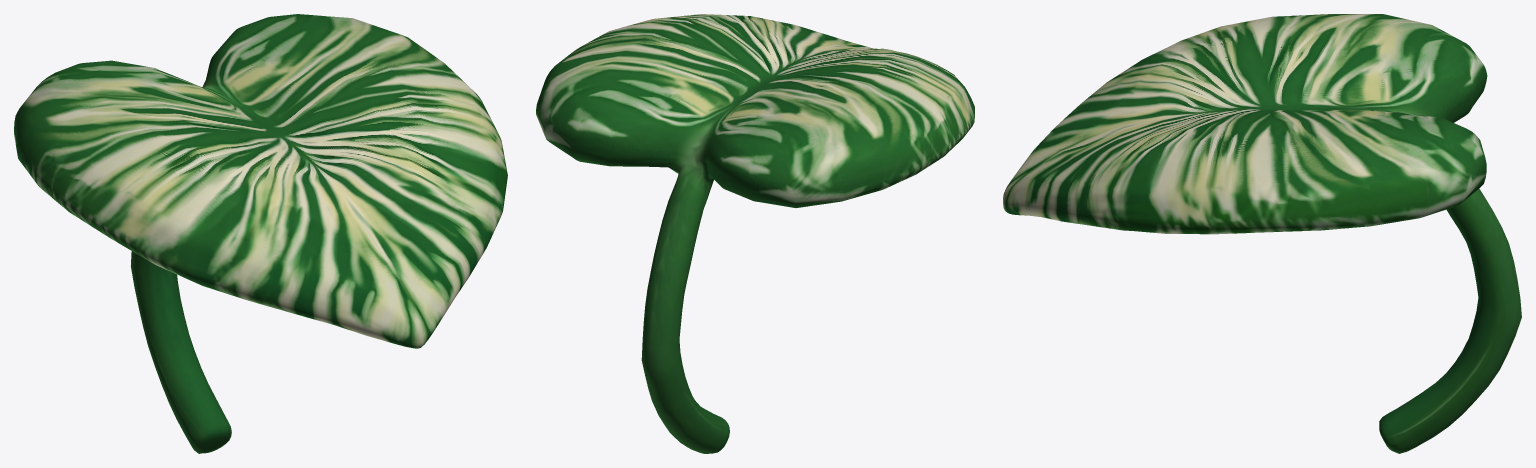
File: pothos_cream_marble_new.glb
The picture shows the model from 3 angles, left to right: view 1: azimuth 30°, elevation 25°; view 2: azimuth 150°, elevation 25°; view 3: azimuth 270°, elevation 25°; orthographic projection. The views are drawn at different scales.
Size of the model in its own units: 1.71 by 1.57 by 2.
1 material, 1 textured.
